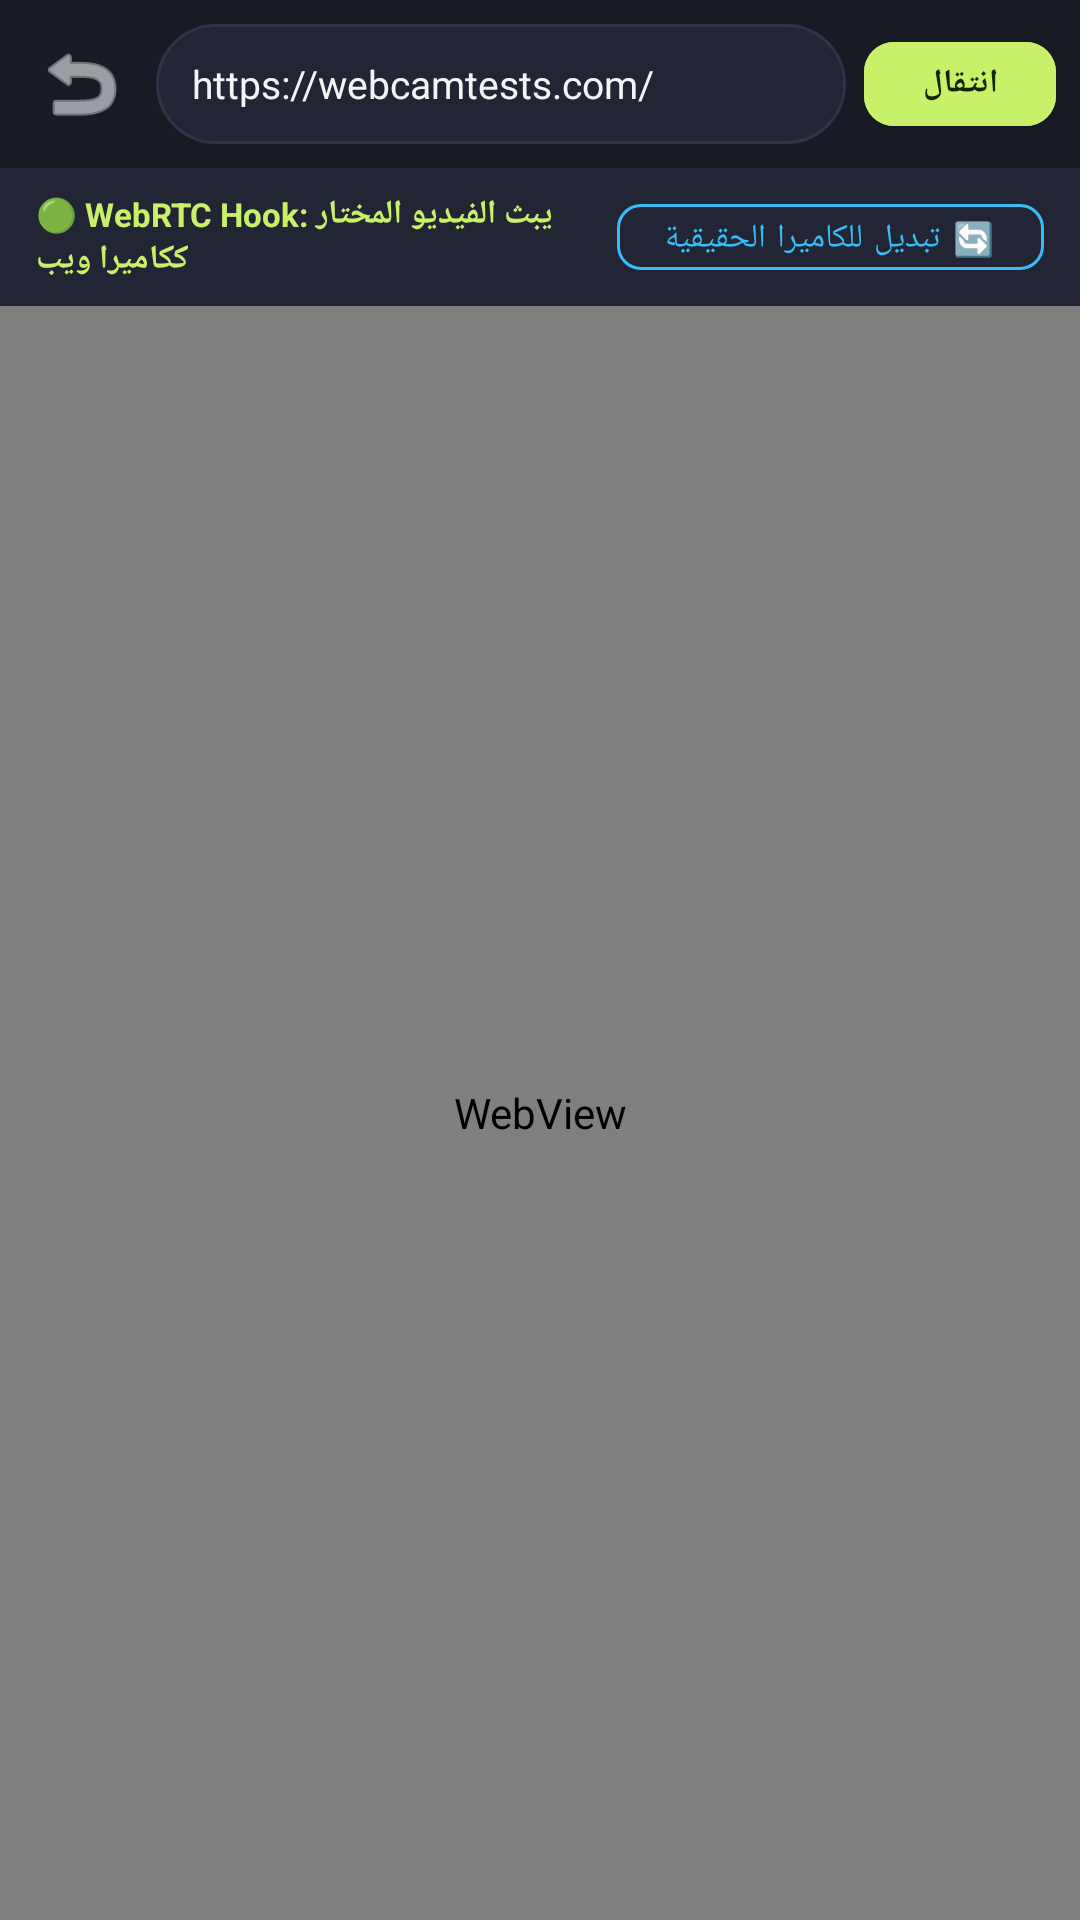

Where icons sit on this 1080 × 1920 app screen, as (x1, y1, x2, y2):
revert: (48, 53, 117, 116)
